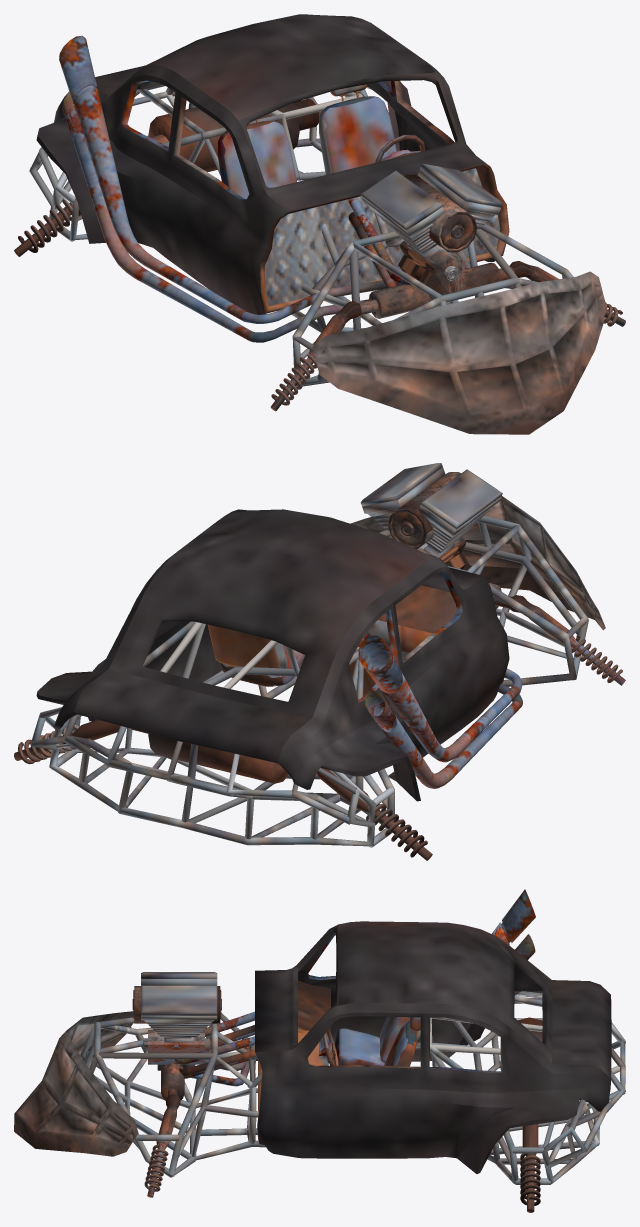
File: Coche_Bueno_02_carroceria.fbx
3 views of the same model, one above another, from view 1: azimuth 30°, elevation 25°; view 2: azimuth 150°, elevation 25°; view 3: azimuth 270°, elevation 25° (orthographic). The views are drawn at different scales.
Visible parts, largest first — view 1: Plane.005; view 2: Plane.005; view 3: Plane.005.
Part boxes in pixels (x1,y1,x2,y2): Plane.005: [14, 14, 625, 434]; Plane.005: [14, 463, 625, 860]; Plane.005: [14, 889, 625, 1212].
Size of the model in its own units: 736 by 384 by 1110.
